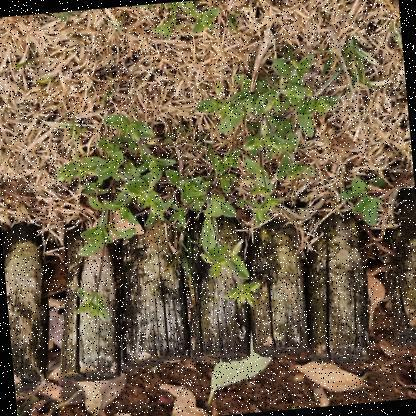Weeds: (52, 44, 357, 325), (132, 0, 225, 45), (337, 172, 392, 231), (31, 11, 85, 26)
